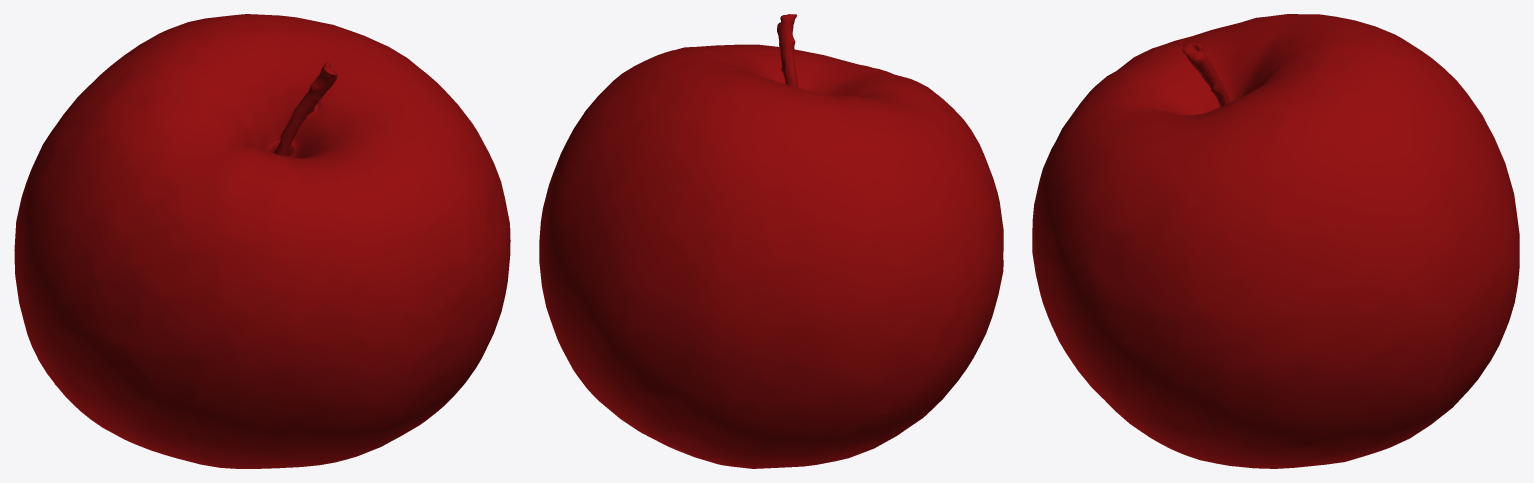
Rendered from apple.fbx.
The picture shows the model from 3 angles, left to right: view 1: azimuth 30°, elevation 25°; view 2: azimuth 150°, elevation 25°; view 3: azimuth 270°, elevation 25°; orthographic projection. The views are drawn at different scales.
Visible parts, largest first — view 1: apple; view 2: apple; view 3: apple.
Boxes of the visible parts, x1,y1,x2,y2 form: apple: (14,14,510,468); apple: (539,14,1003,468); apple: (1032,14,1519,468).
Size of the model in its own units: 9.76 by 8.54 by 9.59.
